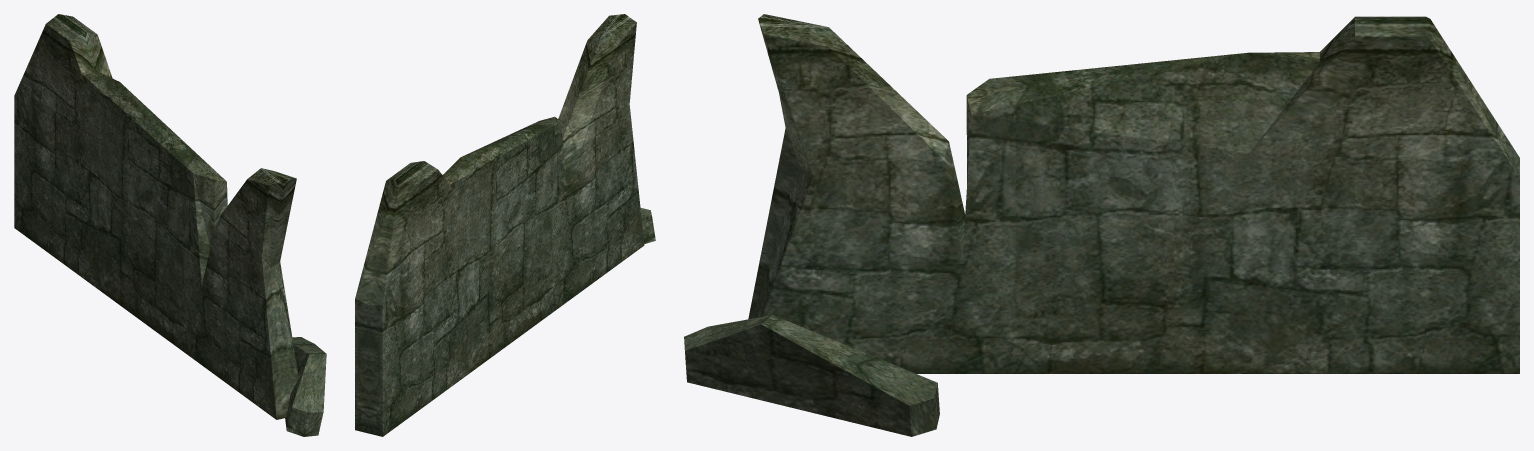
Rendered from thm_dant_jedi_wall_2_l2.fbx.
3 views of the same model, side by side, from view 1: azimuth 30°, elevation 25°; view 2: azimuth 150°, elevation 25°; view 3: azimuth 270°, elevation 25° (orthographic). The views are drawn at different scales.
Visible parts, largest first — view 1: mesh_node; view 2: mesh_node; view 3: mesh_node.
Part boxes in pixels (x1,y1,x2,y2): mesh_node: [14, 14, 326, 436]; mesh_node: [355, 14, 655, 436]; mesh_node: [684, 14, 1519, 436].
Size of the model in its own units: 1.72 by 4.2 by 8.78.
